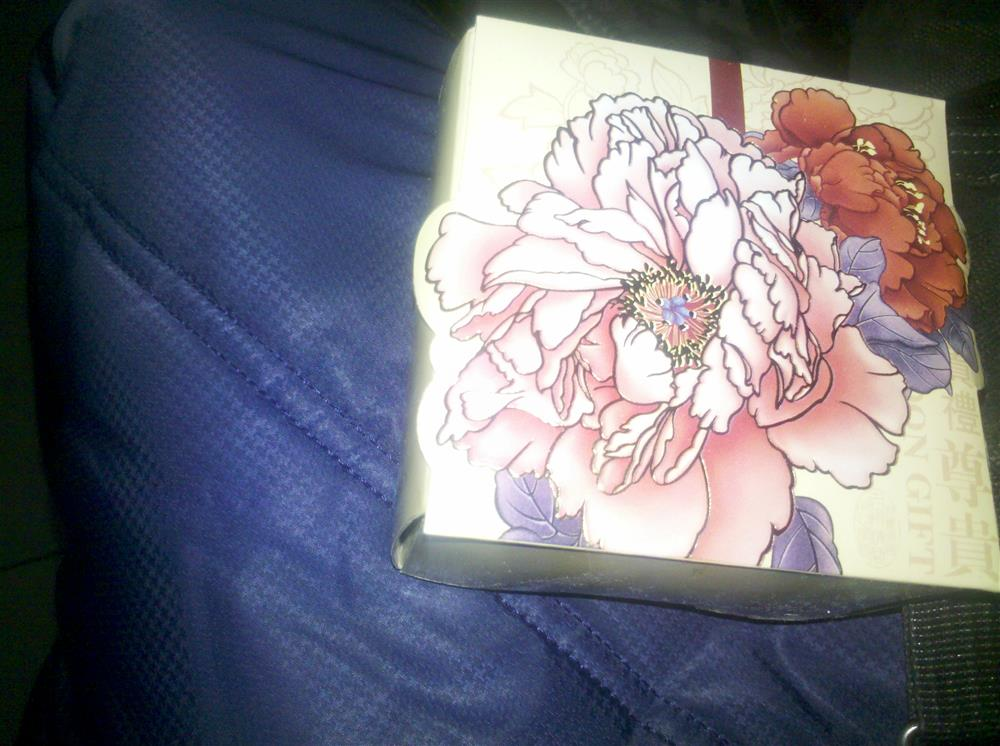mooncake_box: (391, 12, 998, 618)
